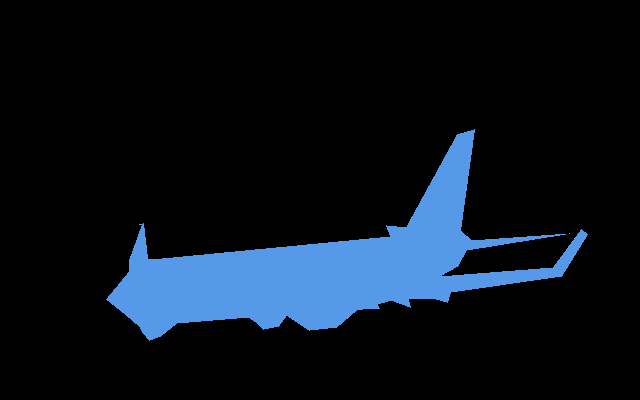Airplane: (106, 129, 588, 340)
